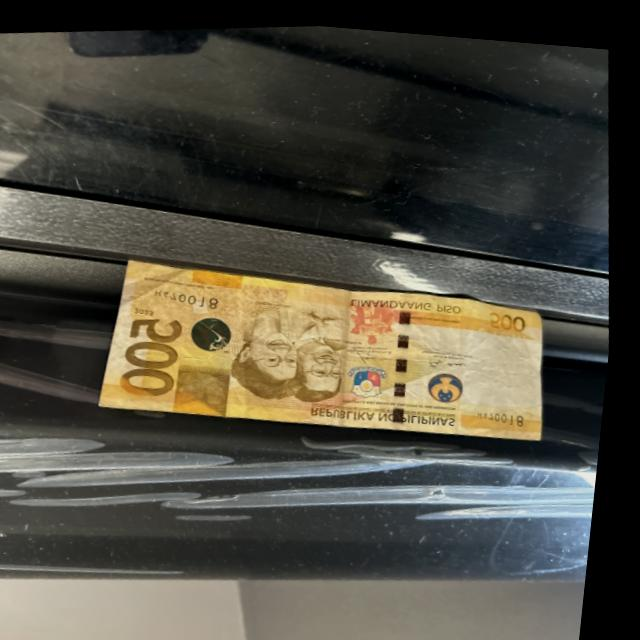concealed_value: (175, 356, 245, 410)
optically_variable_device: (188, 304, 243, 352)
watermark: (470, 321, 551, 403)
